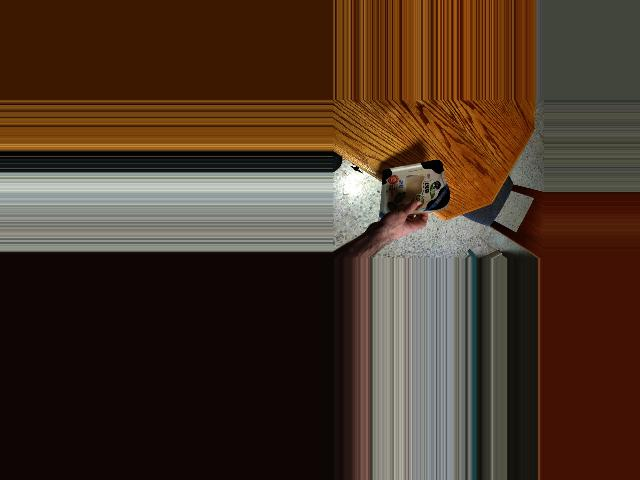cheese: (364, 162, 452, 215)
